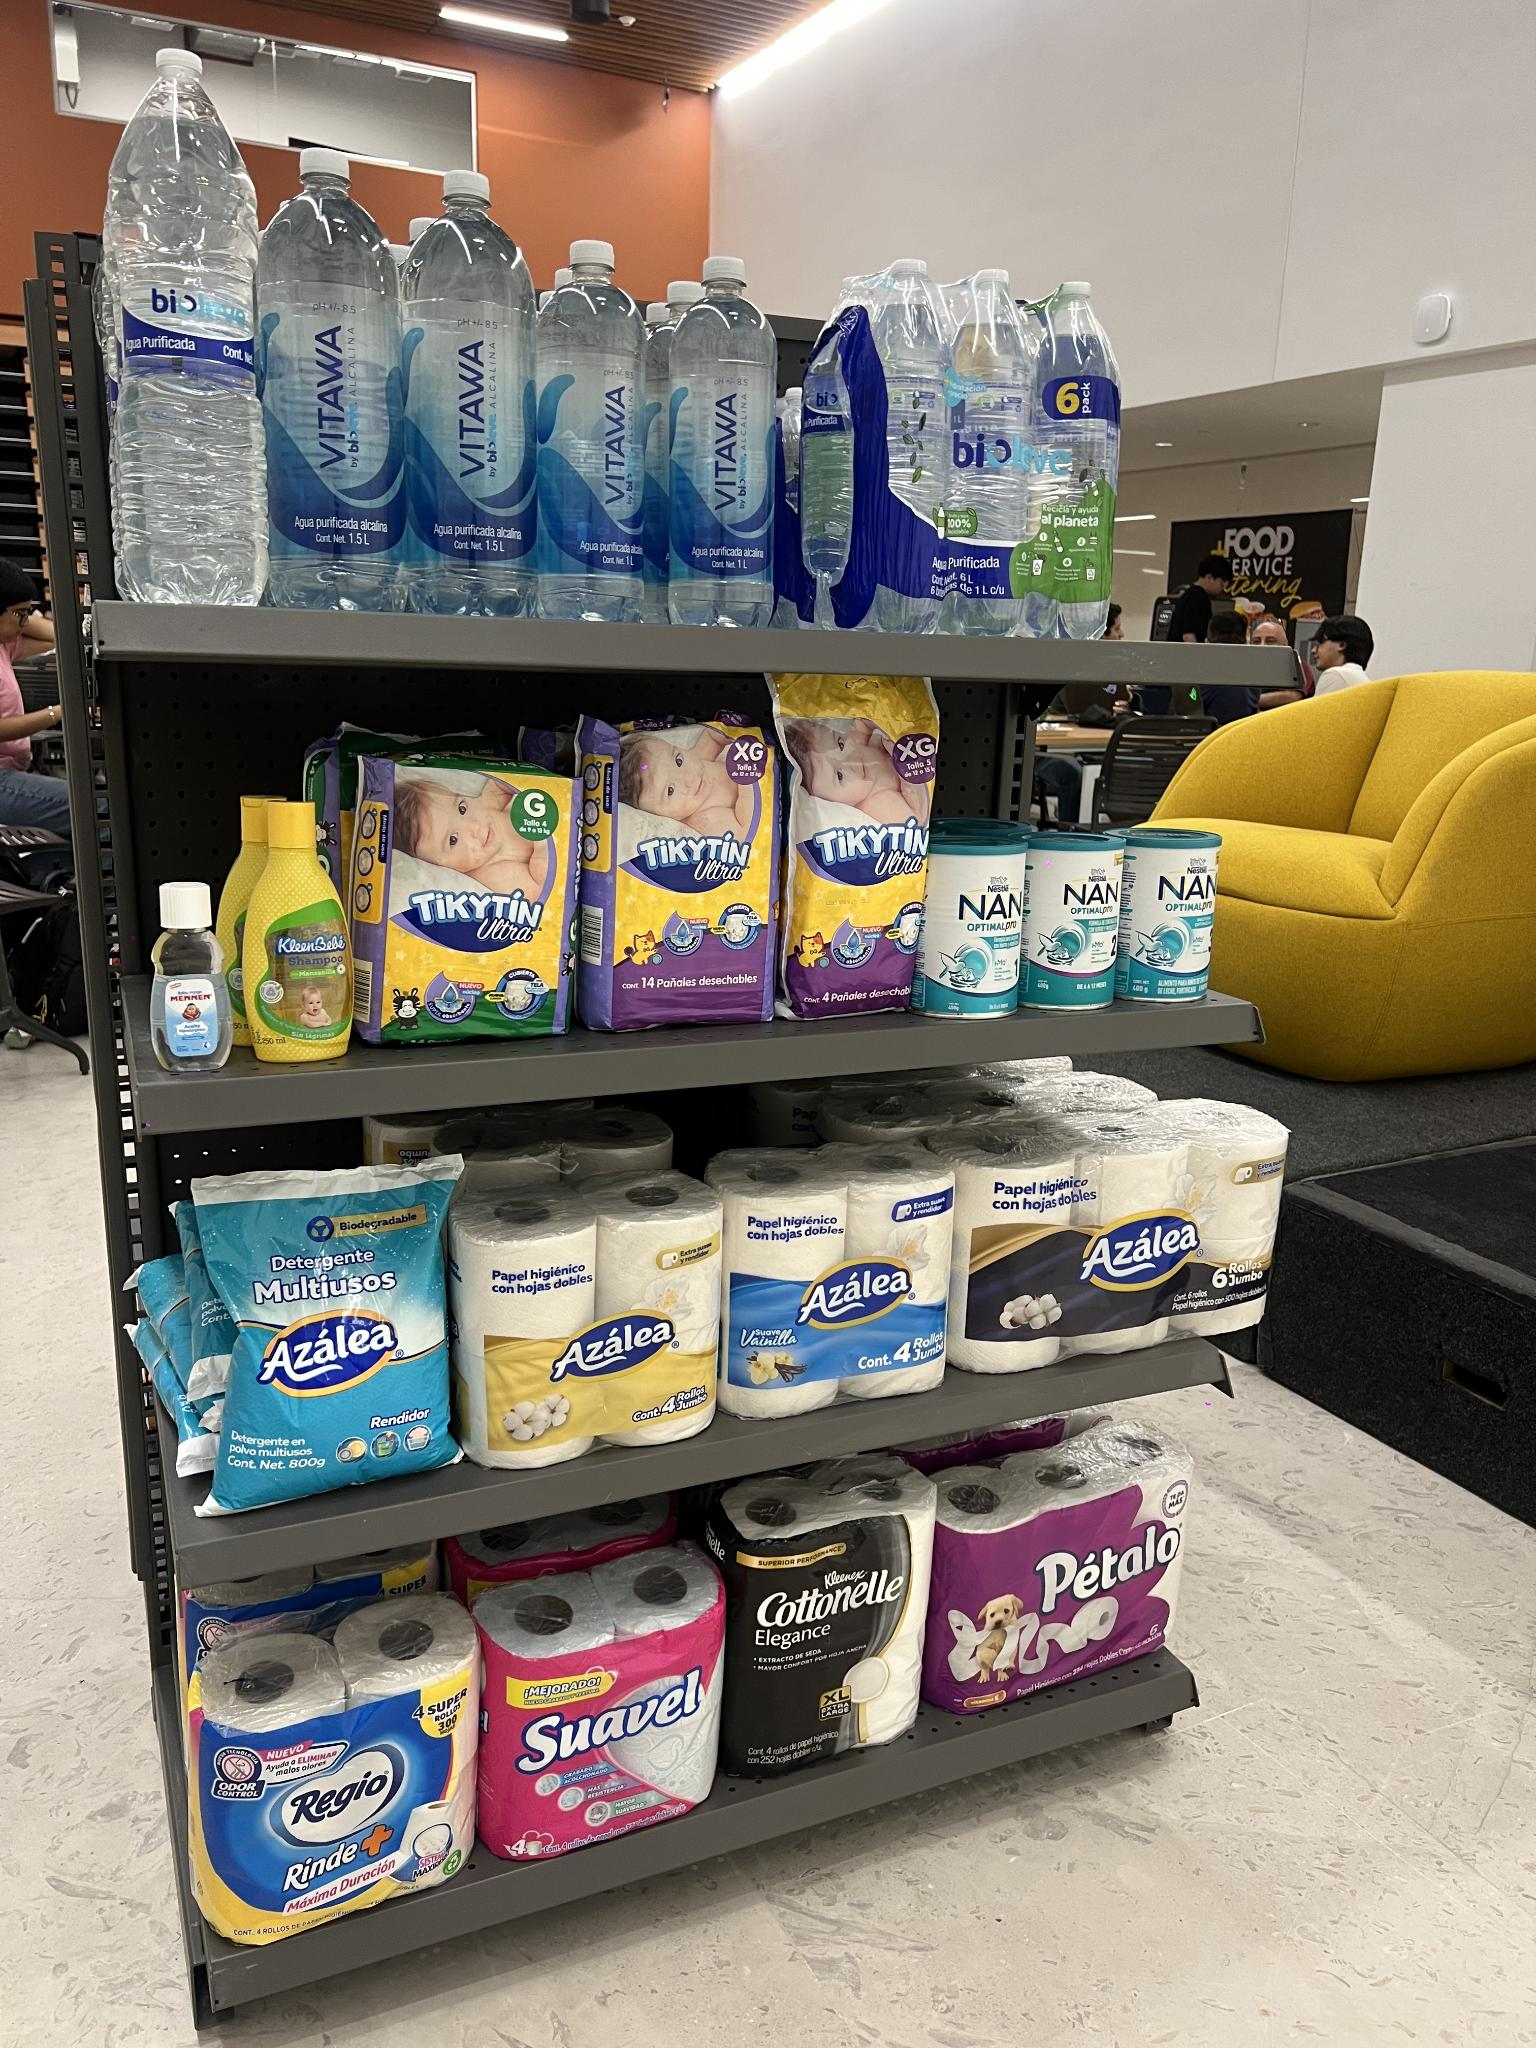aceite_bebe_mennen: (142, 869, 231, 1077)
agua_bioleve: (98, 31, 266, 608)
agua_bioleve_6pack: (857, 248, 1120, 629)
agua_vitawa_1L: (660, 234, 789, 627), (534, 226, 644, 614)
agua_vitawa_1_5L: (248, 126, 403, 603), (408, 147, 529, 608)
detergente_azaela: (219, 1169, 440, 1493)
nan_nestle_1: (926, 827, 1026, 1018)
nan_nestle_2: (1036, 822, 1128, 1011)
nan_nestle_3: (1115, 832, 1221, 1009)
panales_tikytin_extragrande: (578, 703, 773, 1042), (768, 655, 925, 1019)
panales_tikytin_grande: (368, 743, 573, 1051)
papelhigenico_azaela_6rollos: (958, 1135, 1281, 1351)
papelhigenico_azaela_amarillo: (461, 1222, 721, 1437)
papelhigenico_azaela_azul: (716, 1182, 954, 1408)
papelhigenico_kleenex_cottonelle: (734, 1501, 920, 1756)
papelhigenico_petalo: (937, 1482, 1187, 1706)
papelhigenico_regio: (184, 1658, 476, 1932)
papelhigenico_suavel: (457, 1611, 733, 1848)
shampoo_bebe: (239, 782, 361, 1064)
